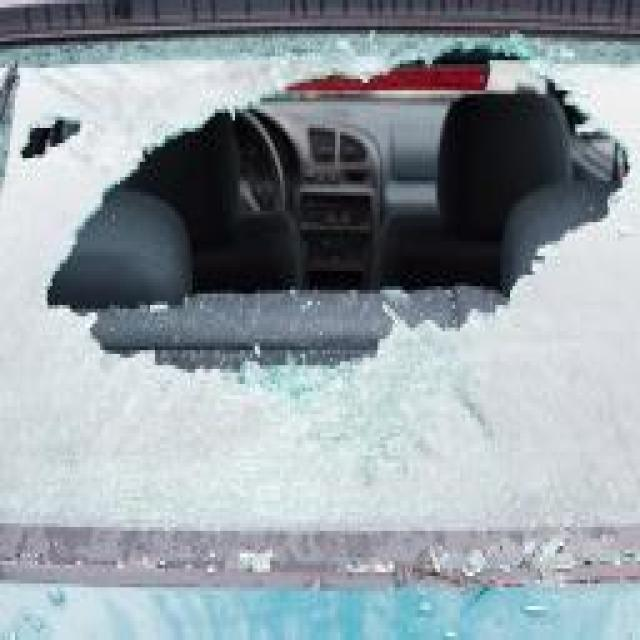Windshield: (2, 53, 640, 572)
